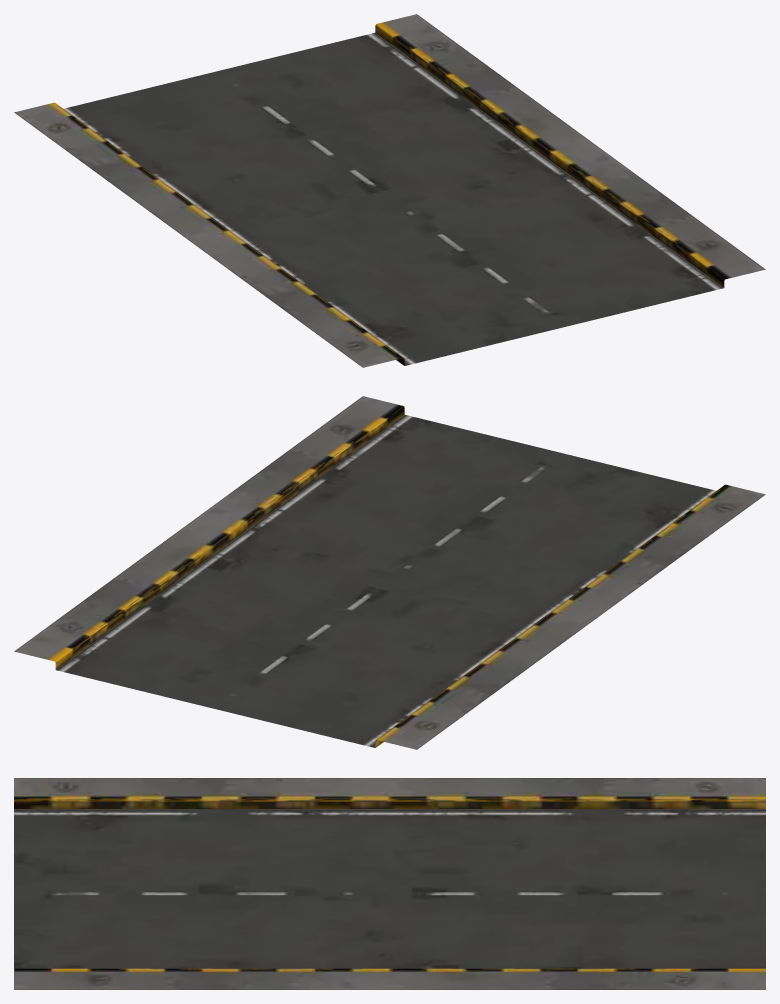
The model's file is road.glb.
The picture shows the model from 3 angles, top to bottom: view 1: azimuth 30°, elevation 25°; view 2: azimuth 150°, elevation 25°; view 3: azimuth 270°, elevation 25°; orthographic projection. The views are drawn at different scales.
Parts seen in each view (by area): view 1: Object_2; view 2: Object_2; view 3: Object_2.
Boxes of the visible parts, x1,y1,x2,y2 form: Object_2: (14, 14, 765, 367); Object_2: (14, 396, 765, 749); Object_2: (14, 778, 765, 989).
Size of the model in its own units: 1000 by 19.96 by 1500.
Materials: 1 (1 with a texture image).
